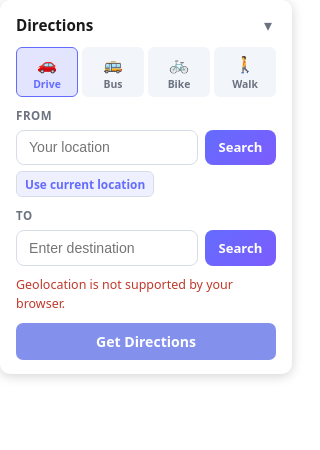
Test case: NavigationPanel › shows journey legs for bus route
The image size is (320, 450).
Click the button titled "Bus" at [113, 72], box x1=82 y1=47 x2=144 y2=97
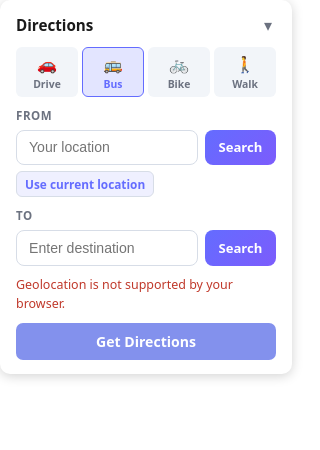
Type "Montreal" into the field labelled "From" at [107, 148], box x1=16 y1=130 x2=198 y2=165
Click the button "Search" below "From" at [240, 148], box x1=205 y1=130 x2=276 y2=165
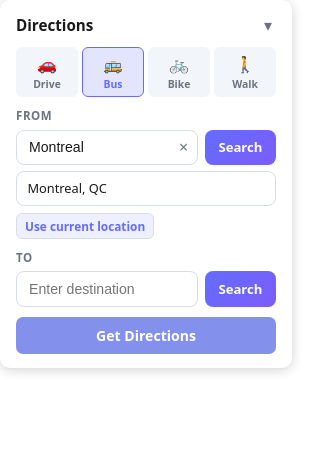
Click the list item "Montreal, QC" at [67, 188], box x1=27 y1=179 x2=107 y2=197
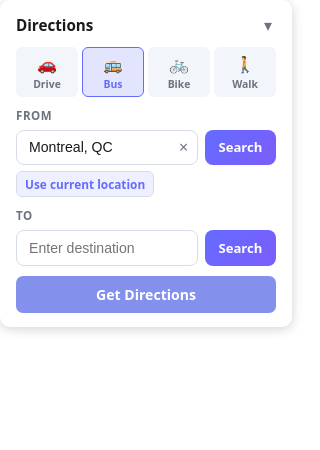
Type "Laval" into the field labelled "To" at [107, 248], box x1=16 y1=230 x2=198 y2=266
Click the button "Search" below "To" at [240, 248], box x1=205 y1=230 x2=276 y2=266
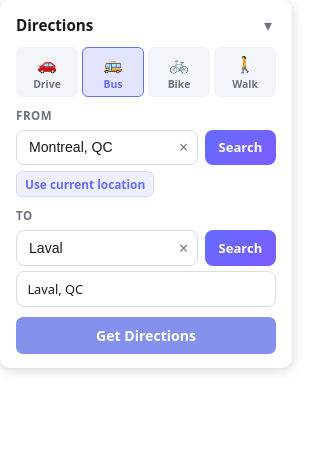
Click the list item "Laval, QC" at [55, 289], box x1=27 y1=280 x2=83 y2=298
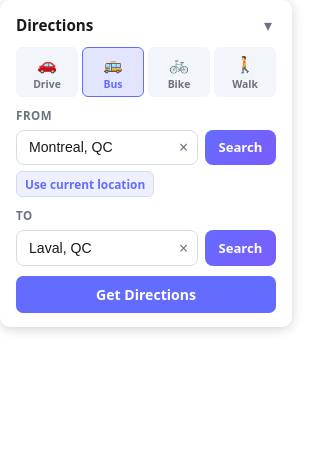
Click the button "Get Directions" at [146, 294], box x1=16 y1=276 x2=276 y2=313
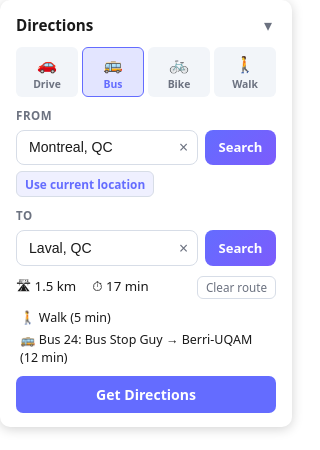
Result: the list named "Journey steps" shows "Walk" at x1=39 y1=309 x2=67 y2=326
Result: the list named "Journey steps" shows "5 min" at x1=16 y1=309 x2=276 y2=366
Result: the list named "Journey steps" shows "Bus 24: Bus Stop Guy → Berri-UQAM (12 min)" at x1=16 y1=309 x2=276 y2=366
